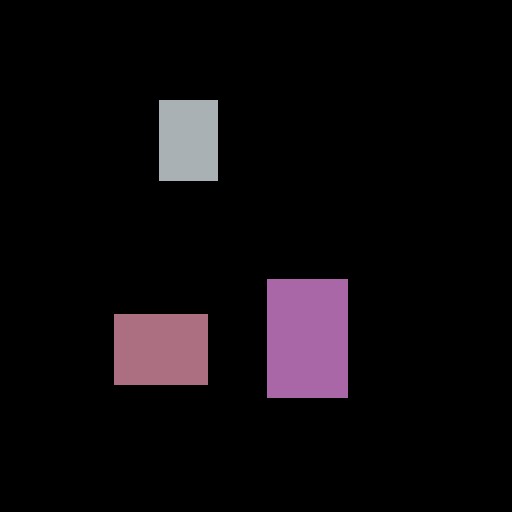rectangle: (267, 279, 347, 397), (114, 314, 207, 384), (159, 100, 217, 180)
